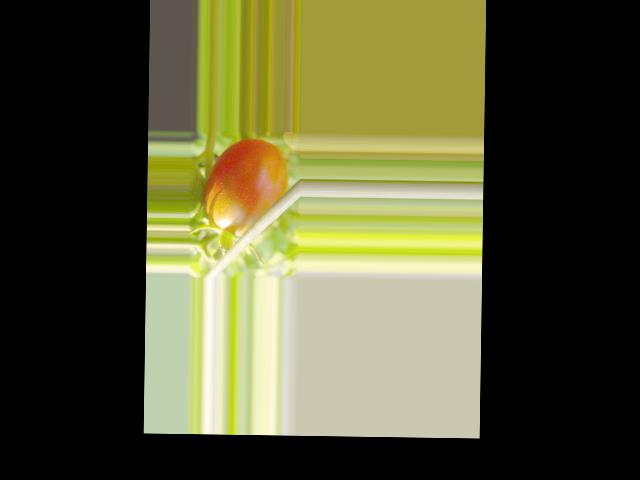tomato: (205, 138, 287, 237)
